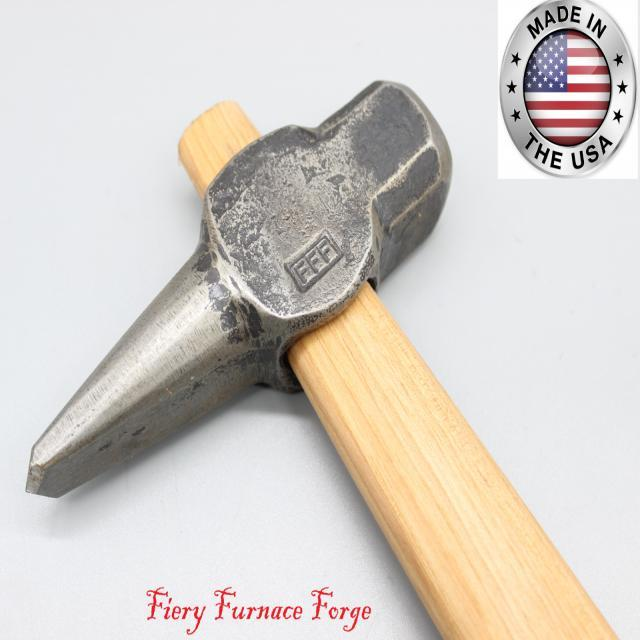hammer: (18, 76, 623, 640)
